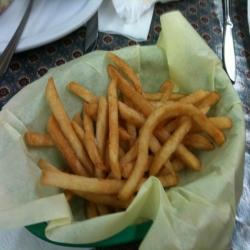fries: (30, 76, 214, 207)
